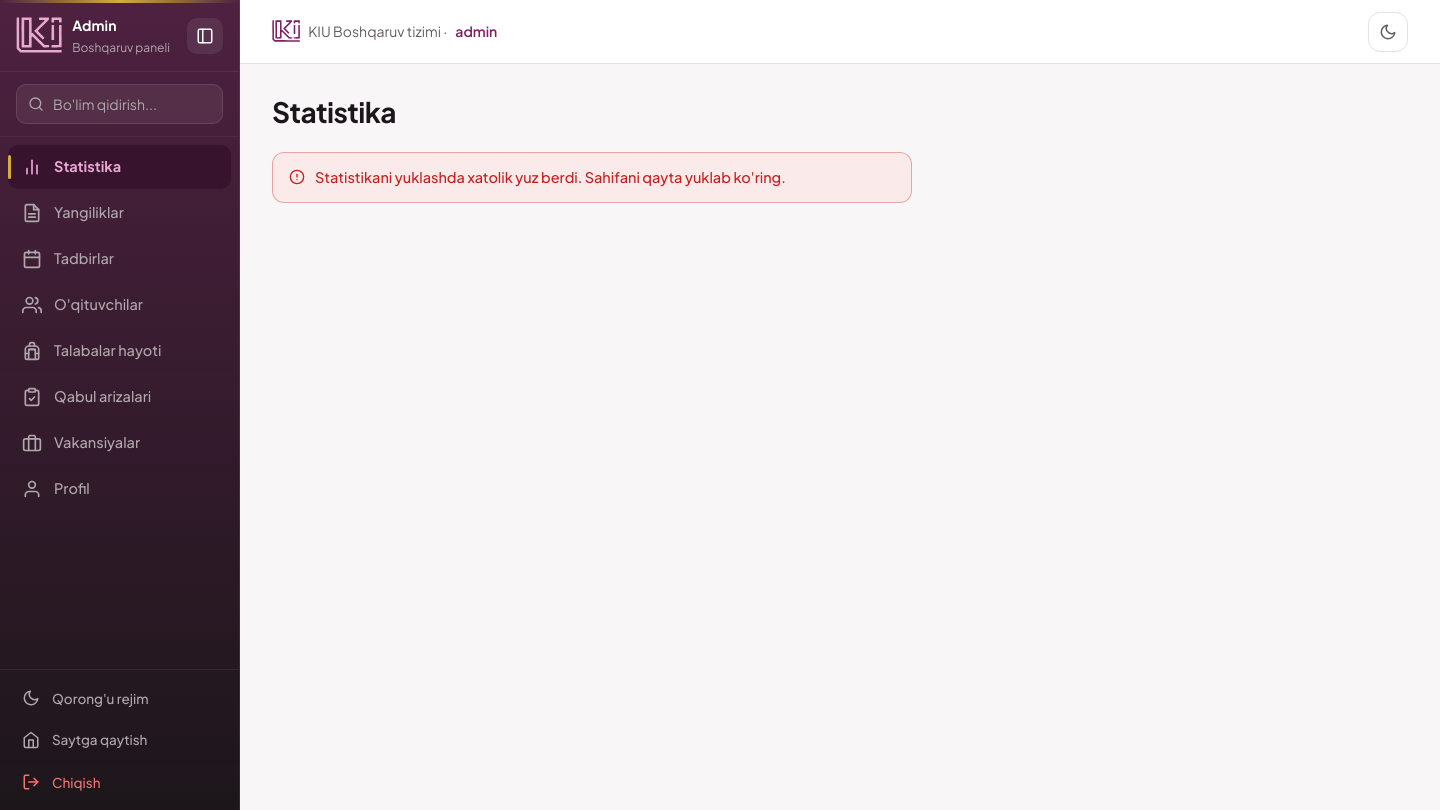
Dashboard logotipi (6.18) › sidebar: ochiq holatda 36 px, yig'ilganda 22 px — har doim bitta nomli logotip; topbar'dagisi dekorativ
This screenshot has width=1440, height=810.
Expected: the number of pictures named "KIU logo" is 1, top-left (16, 18), bottom-right (62, 54)
Expected: the text "Admin" is shown, top-left (72, 16), bottom-right (117, 34)
Click the button named "Panelni yig'ish".
click(205, 36)  # box top-left (187, 18), bottom-right (223, 54)
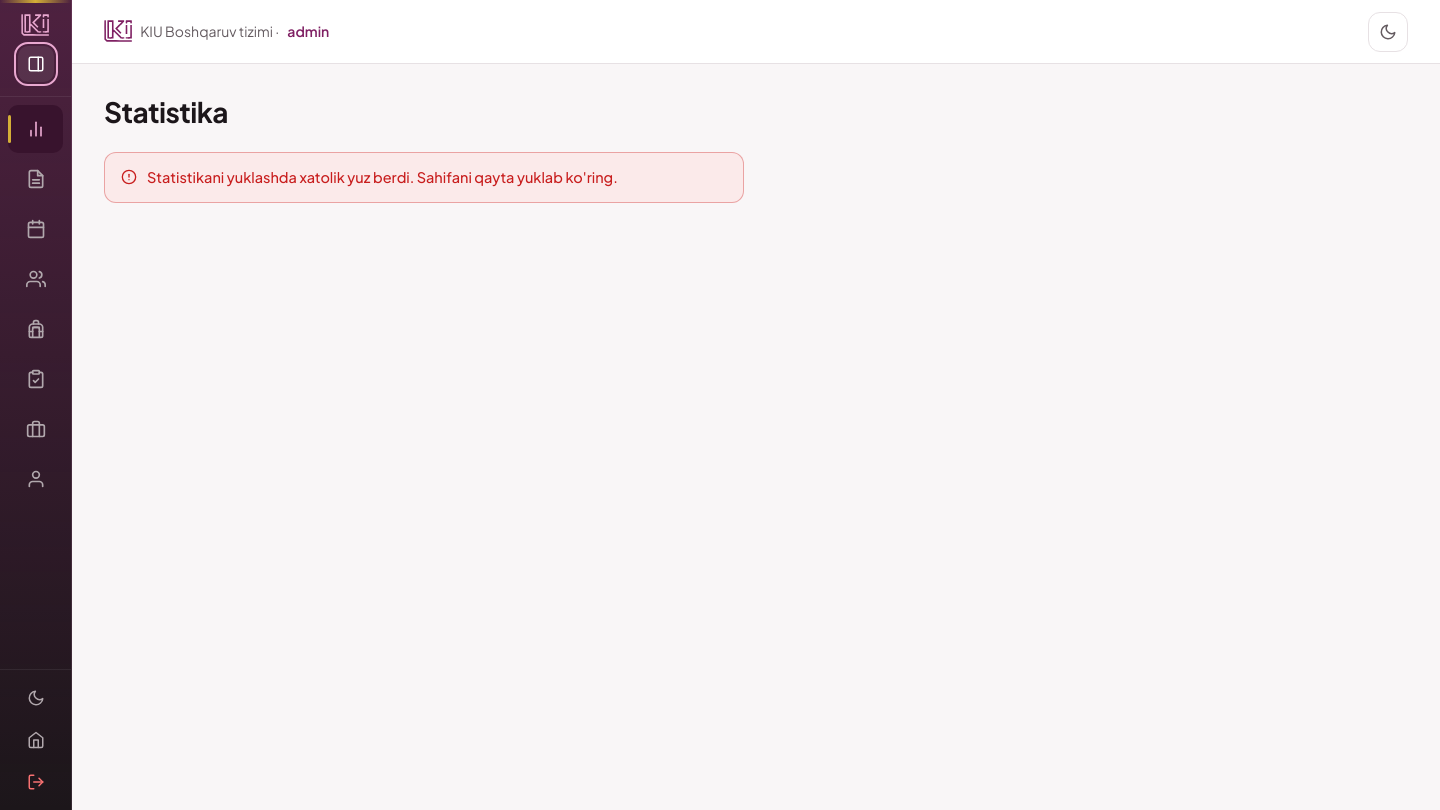
Expected: the text "Boshqaruv paneli" is gone
